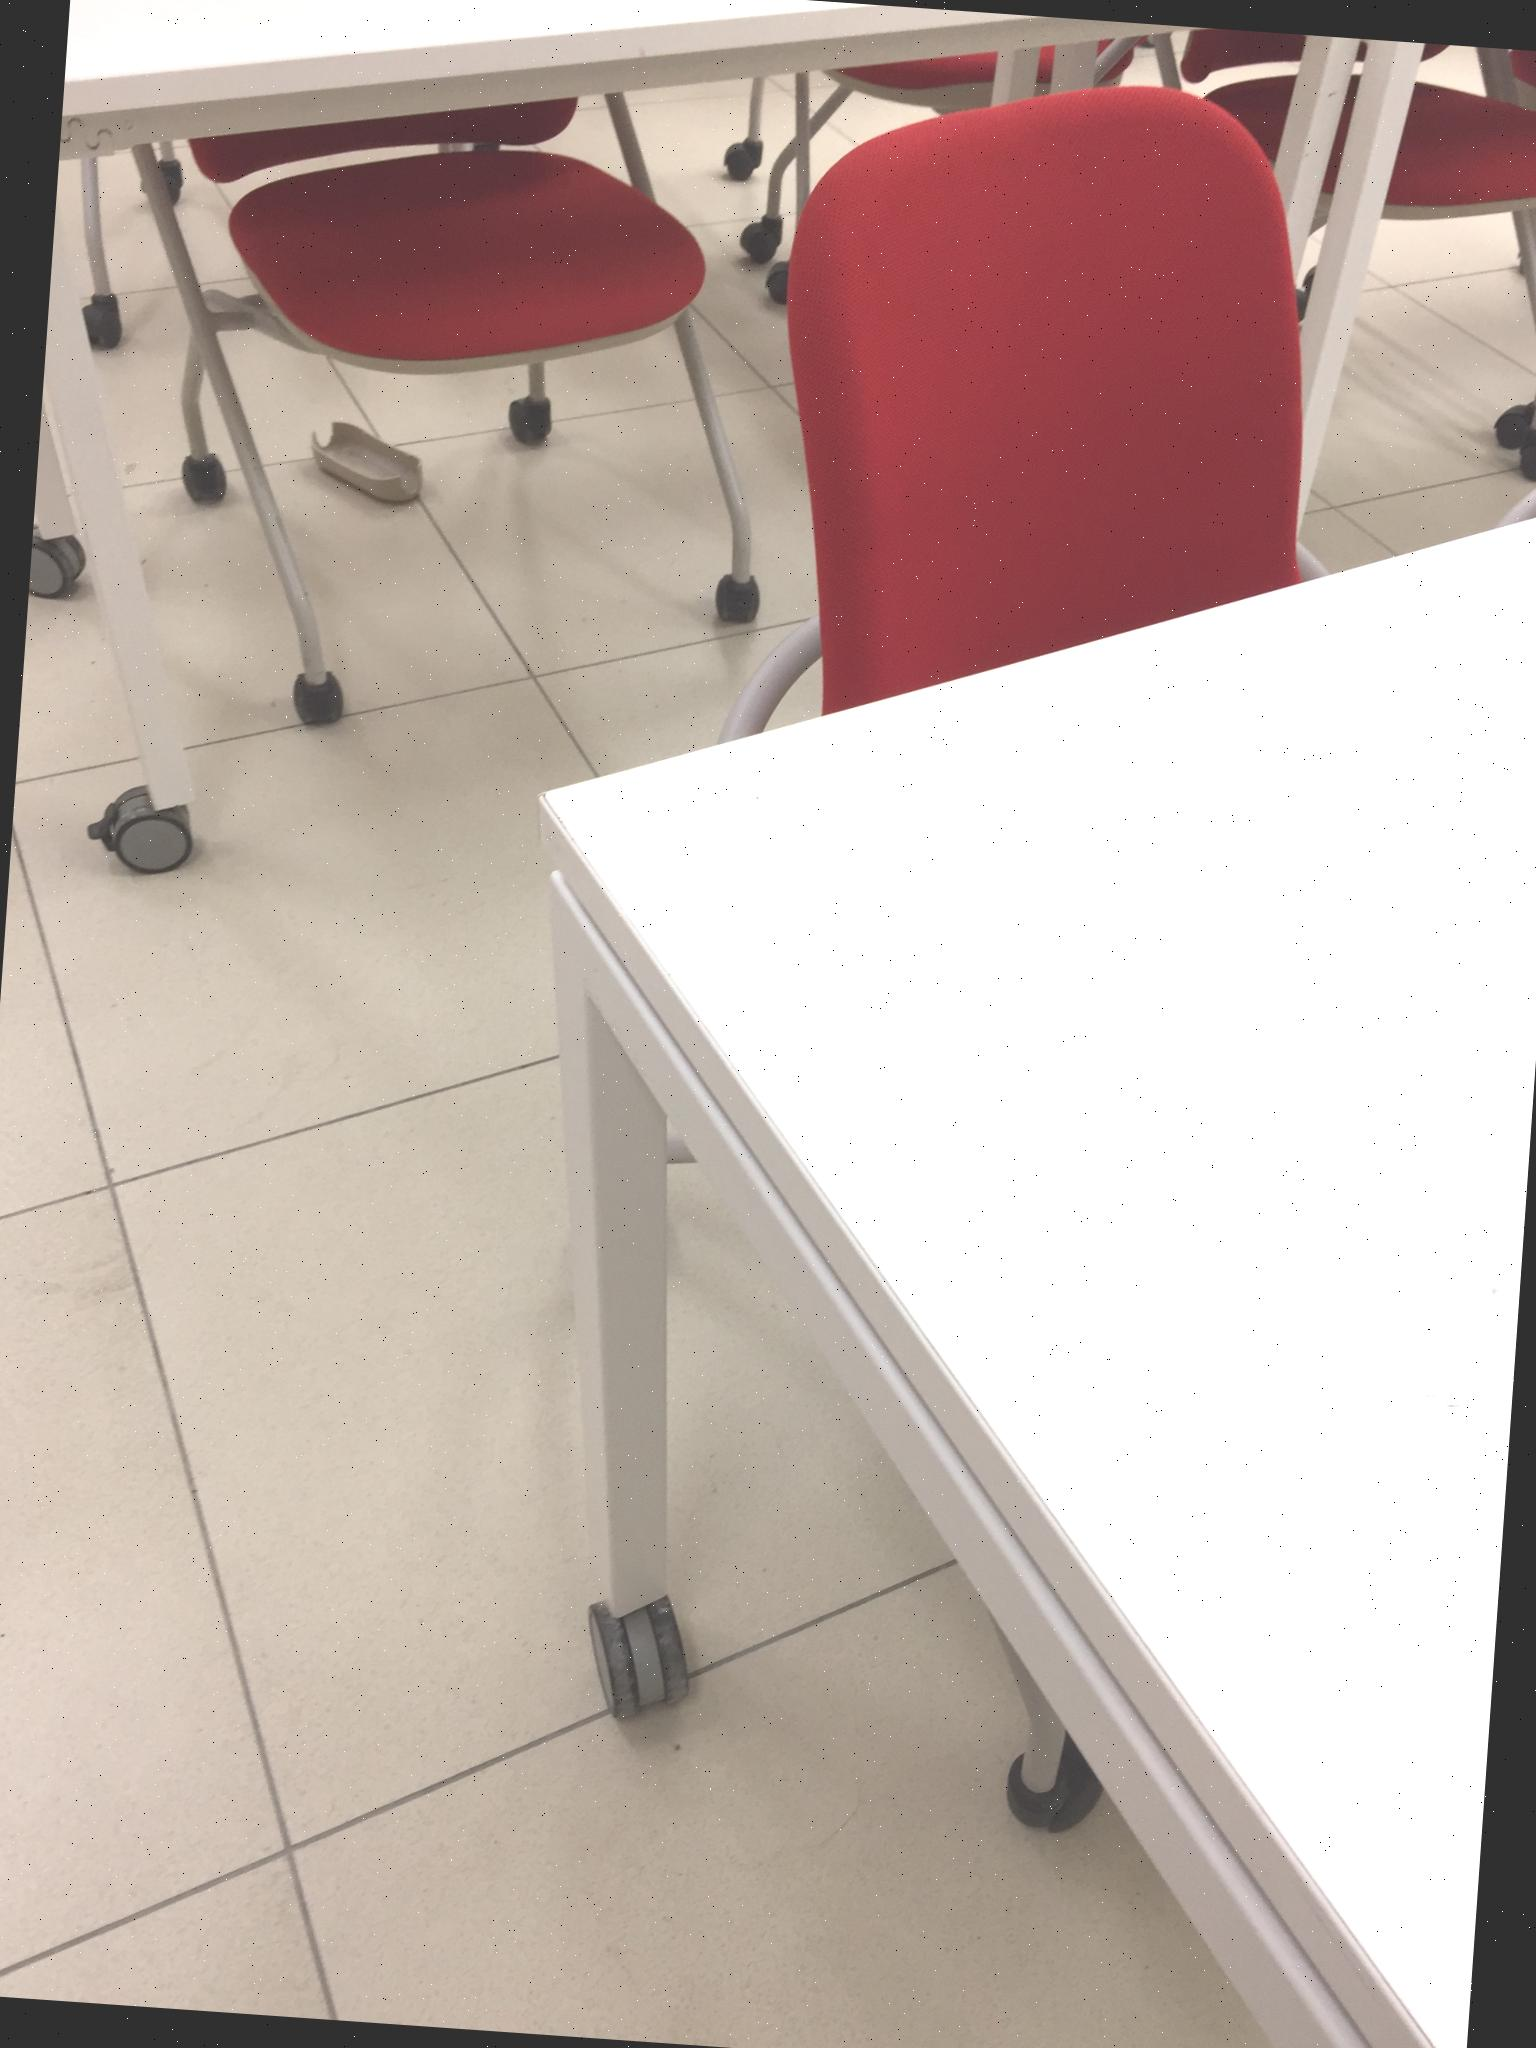chair: (60, 0, 810, 748), (728, 95, 1405, 827), (1147, 26, 1536, 485)
